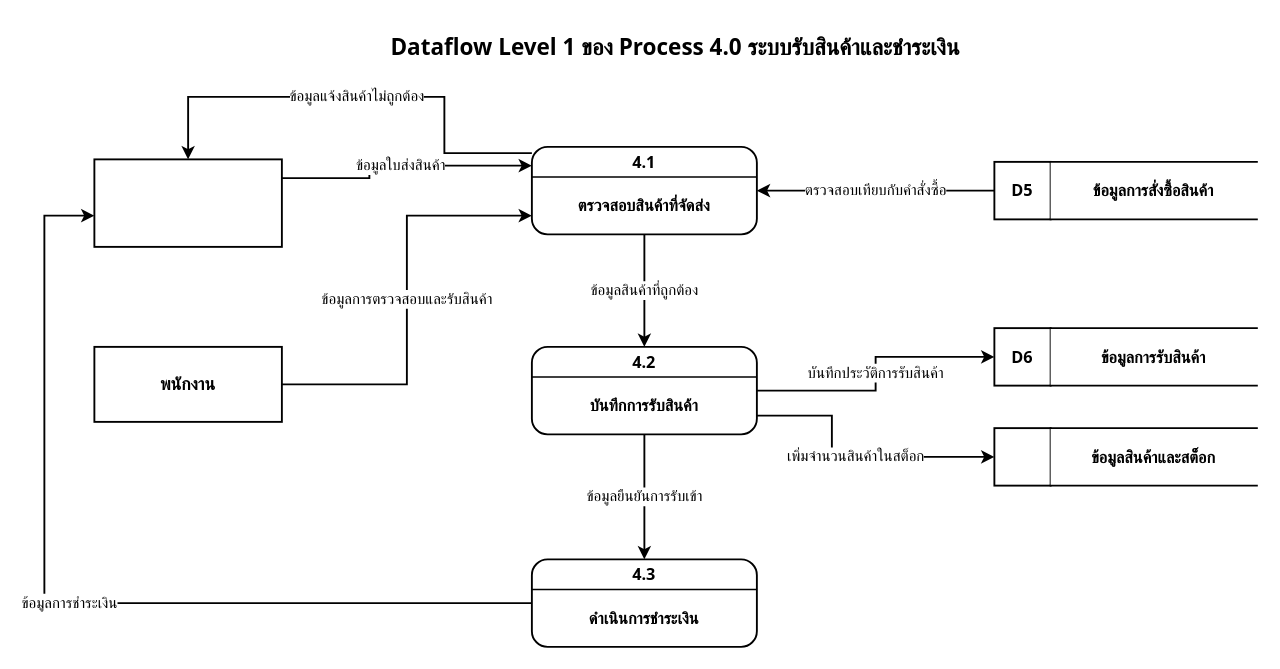
The diagram is 1280 pixels wide and 669 high, and some of its shapes have lost their labels. Here are the shapes that lost their labels. From the top down, the centre of each, then its label:
pixel 187 202: ตัวแทนจำหน่าย
pixel 1022 456: D2
